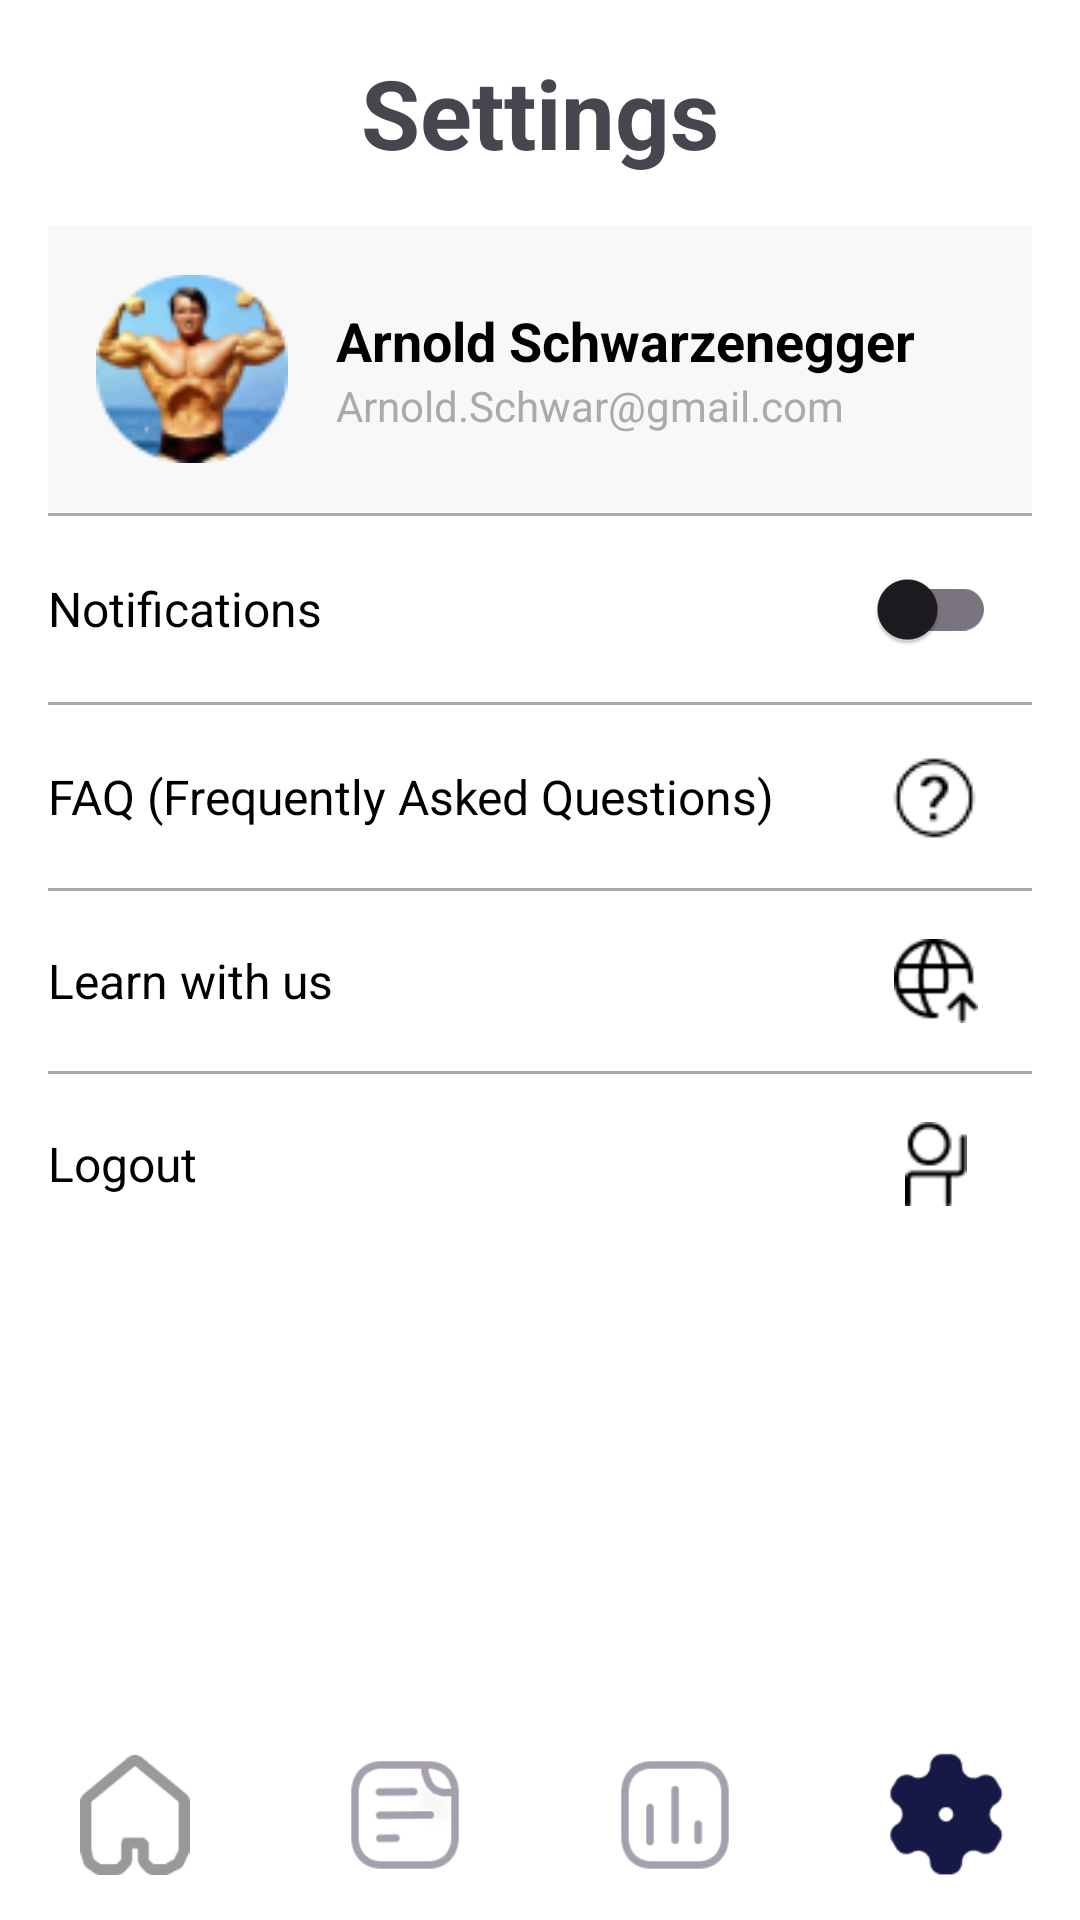

Where icons sit on this 1080x1920 app screen, as (x1, y1, x2, y2):
home: (80, 1755, 190, 1875)
settings: (890, 1753, 1003, 1875)
